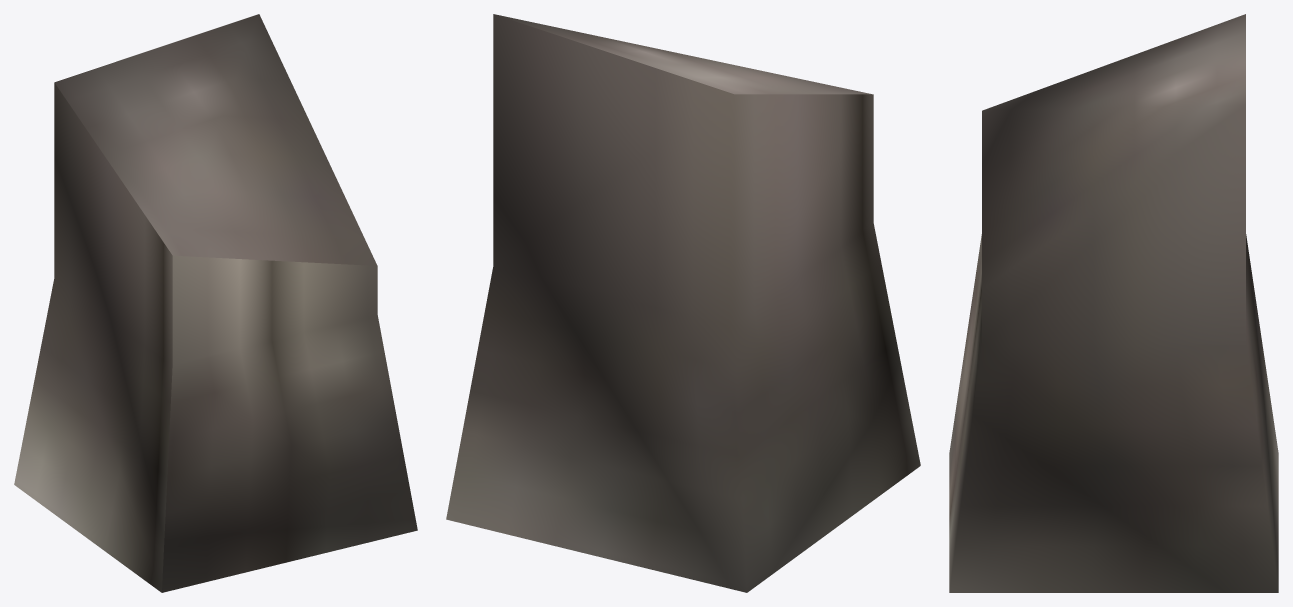
Rendered from Ruins3.glb.
3 views of the same model, side by side, from view 1: azimuth 30°, elevation 25°; view 2: azimuth 150°, elevation 25°; view 3: azimuth 270°, elevation 25° (orthographic). The views are drawn at different scales.
Parts seen in each view (by area): view 1: Ruins3; view 2: Ruins3; view 3: Ruins3.
Boxes of the visible parts, x1=… form: Ruins3: x1=14, y1=14, x2=417, y2=592; Ruins3: x1=446, y1=14, x2=920, y2=592; Ruins3: x1=949, y1=14, x2=1278, y2=592.
Bounding box in the file's own units: 3.71 × 5.89 × 3.71.
Materials: 1 (1 with a texture image).
